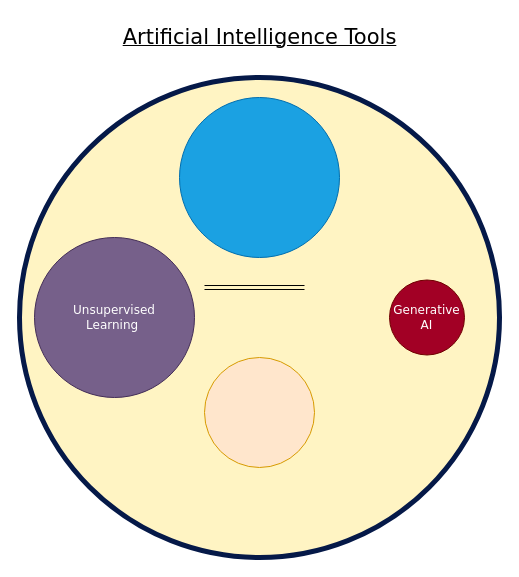
Image size: 519x577. Some labels were removed from this diagram. The shapes that lost their labels are listed below. From the top down, each one's centre as x and y in pixels, then its label:
At point 259,177: "Supervised Learning".
At point 259,412: "Reinforcement Learning".
